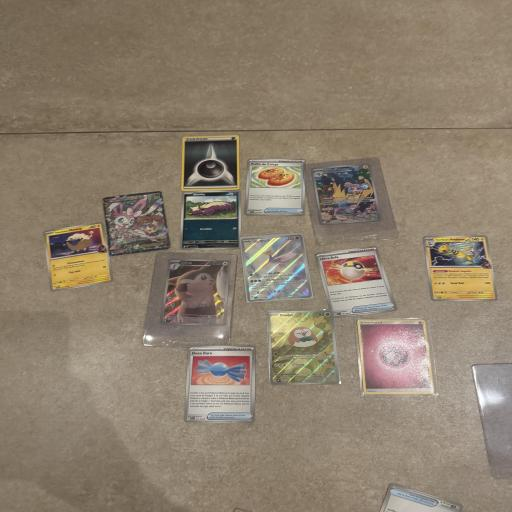card: (315, 236, 399, 329), (357, 313, 435, 400), (184, 344, 257, 424), (268, 309, 340, 386), (41, 221, 114, 292), (423, 235, 498, 301), (241, 234, 312, 302), (160, 258, 231, 326), (101, 190, 171, 257), (311, 163, 382, 226), (180, 190, 241, 250), (244, 158, 306, 216), (179, 135, 241, 191)
